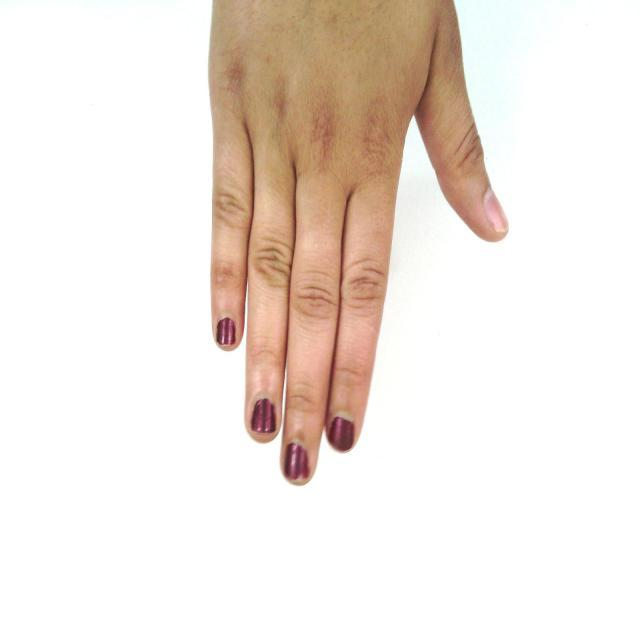Fingernail: (483, 188, 510, 232), (284, 439, 309, 482), (329, 413, 355, 451), (251, 394, 276, 433), (217, 313, 236, 345)
